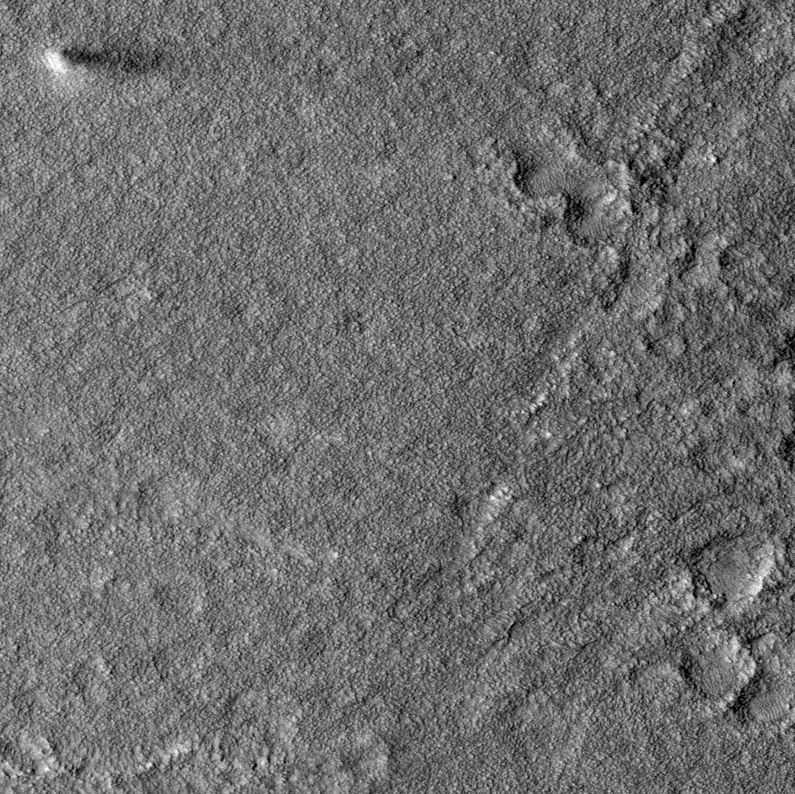dust_devil: (41, 42, 166, 80)
